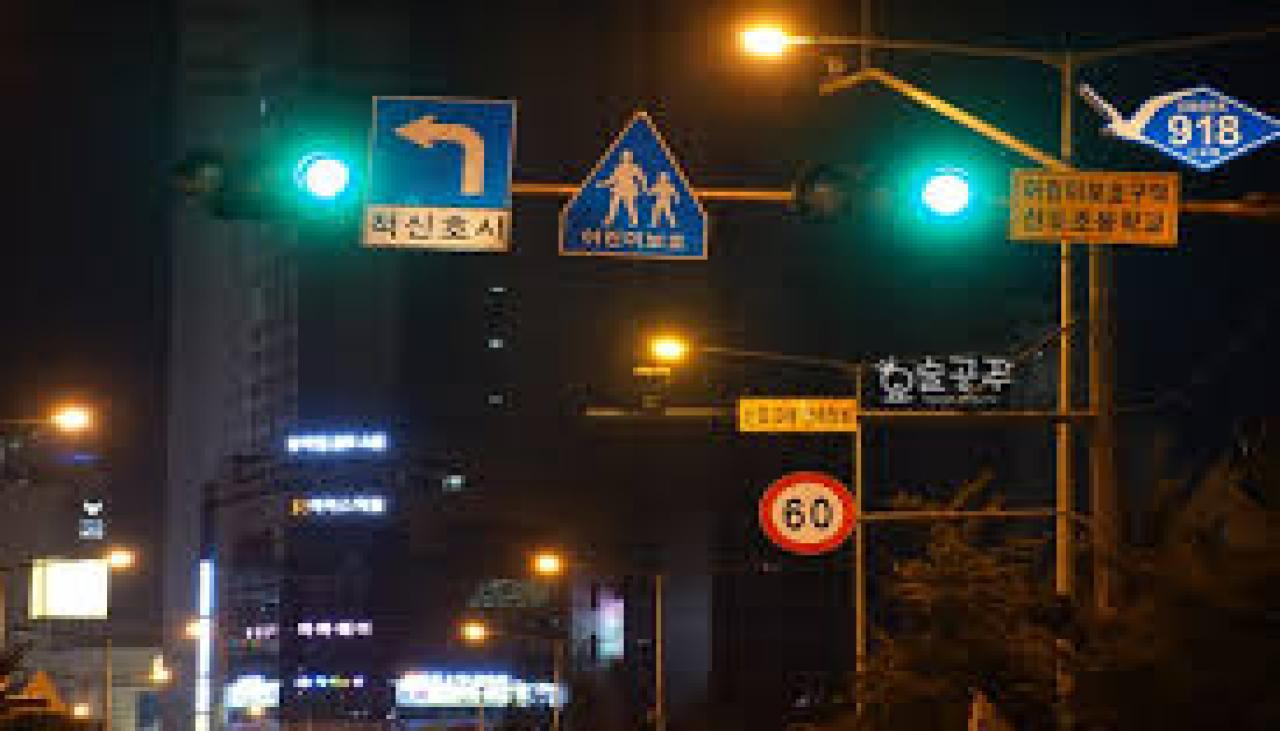Green Light: (903, 162, 985, 229), (280, 141, 359, 208)
